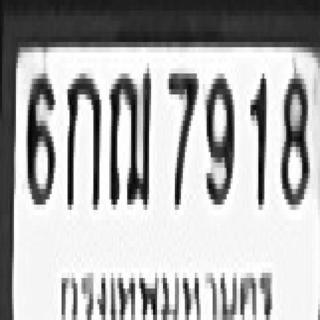A01: (66, 68, 99, 205)
A12: (107, 66, 149, 202)
N01: (248, 68, 264, 205)
N06: (24, 68, 54, 199)
N07: (167, 68, 197, 205)
N08: (278, 68, 308, 205)
N09: (205, 68, 233, 199)
P04: (58, 255, 278, 320)
